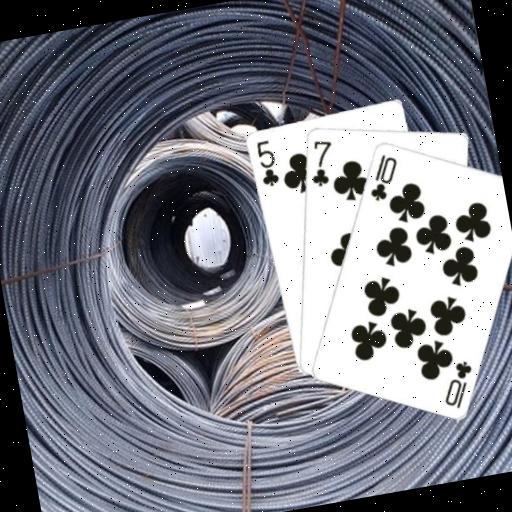10C: (360, 148, 405, 204), (434, 356, 479, 412)
5C: (252, 136, 282, 189)
7C: (301, 134, 339, 189)
